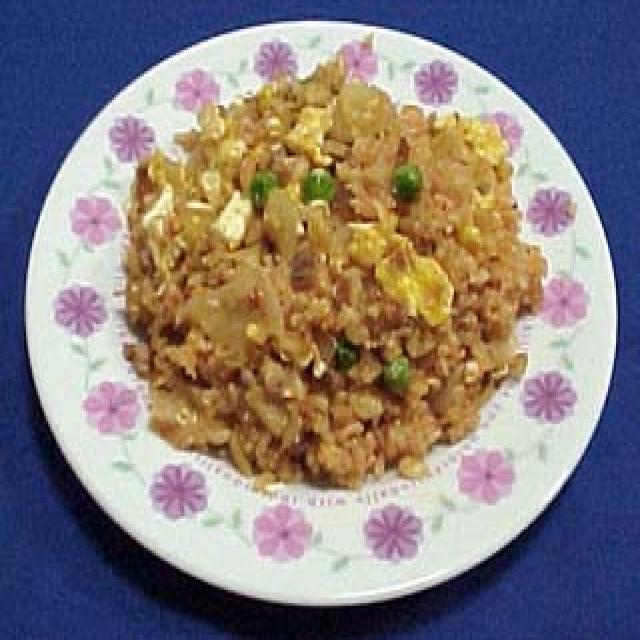米饭主食: (116, 63, 536, 474)
